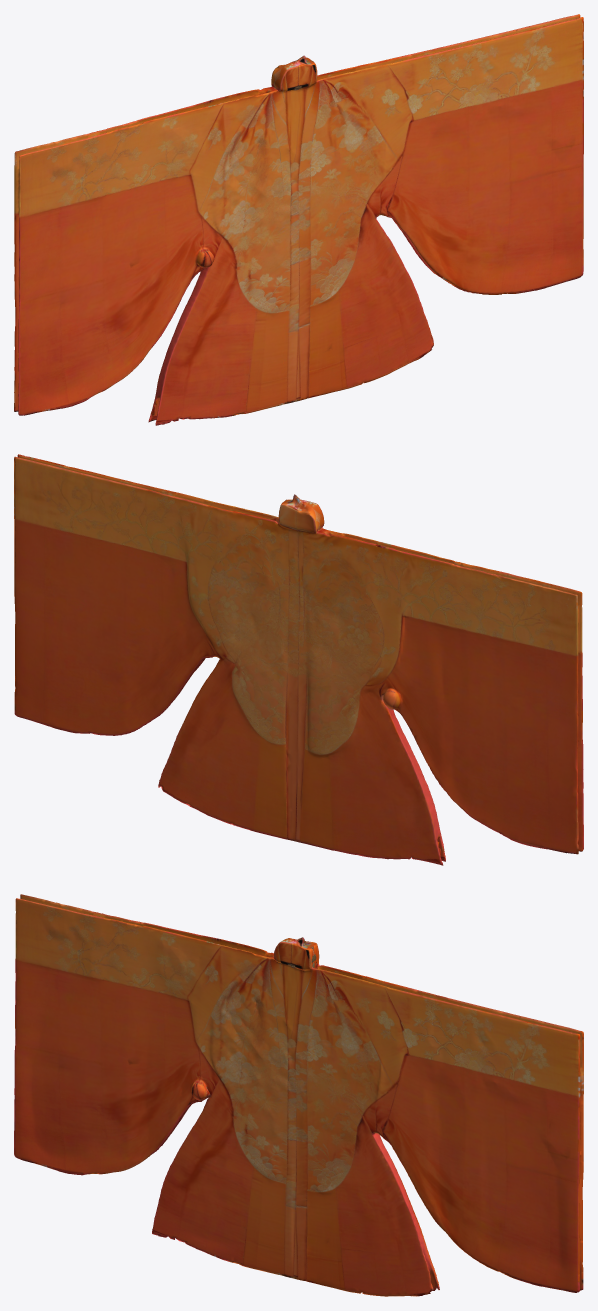
The model's file is 织金妆花缎过肩通袖龙纹女上衣.glb.
3 views of the same model, one above another, from view 1: azimuth 30°, elevation 25°; view 2: azimuth 150°, elevation 25°; view 3: azimuth 330°, elevation 25° (orthographic).
Size of the model in its own units: 2 by 1.16 by 0.0876.
1 material, 1 textured.
